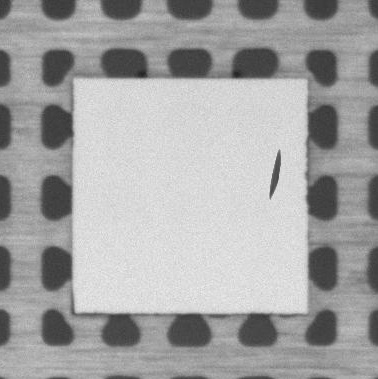DIE_INK: (267, 148, 283, 202)
